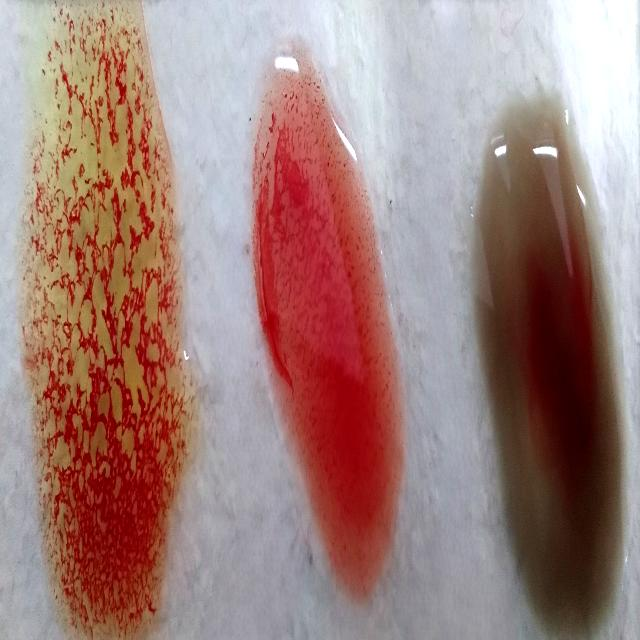B: (31, 7, 184, 633)
D: (255, 75, 402, 602)
